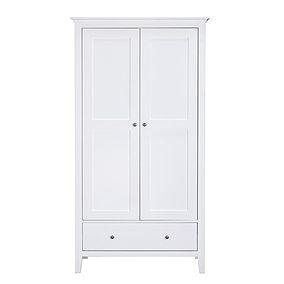cabinet_door: (143, 28, 200, 218), (84, 28, 140, 219), (84, 225, 196, 251)
handle: (162, 233, 171, 241), (131, 120, 138, 129), (109, 233, 116, 241), (142, 121, 148, 130)
